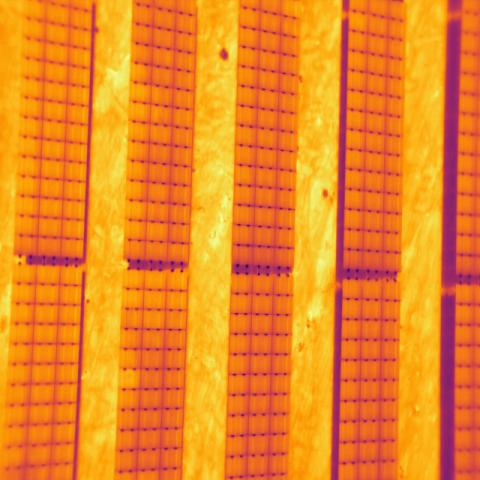fault: (119, 369, 140, 390)
